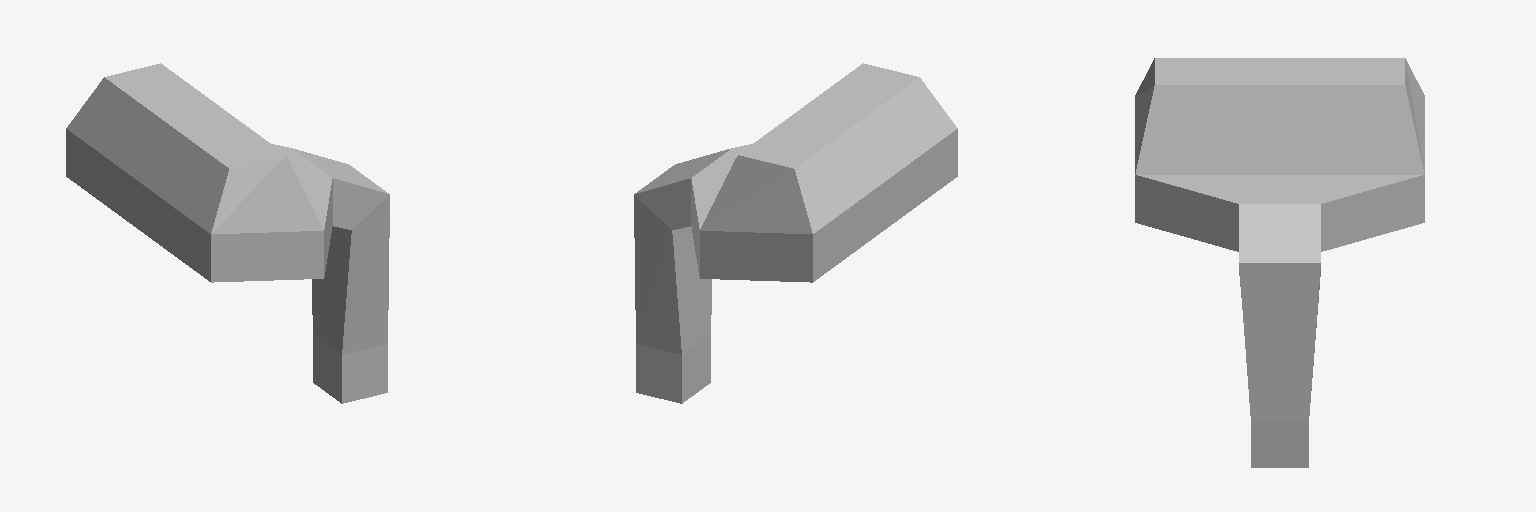
Rendered from Overhang1.obj.
The picture shows the model from 3 angles: view 1: azimuth 30°, elevation 25°; view 2: azimuth 150°, elevation 25°; view 3: azimuth 270°, elevation 25°; orthographic projection.
Parts seen in each view (by area): view 1: Overhang1; view 2: Overhang1; view 3: Overhang1.
Boxes of the visible parts, box(x1,y1,x2,y2) form: Overhang1: box(66, 63, 389, 403); Overhang1: box(634, 63, 957, 403); Overhang1: box(1135, 58, 1424, 467).
Size of the model in its own units: 5.11 by 6.43 by 5.45.